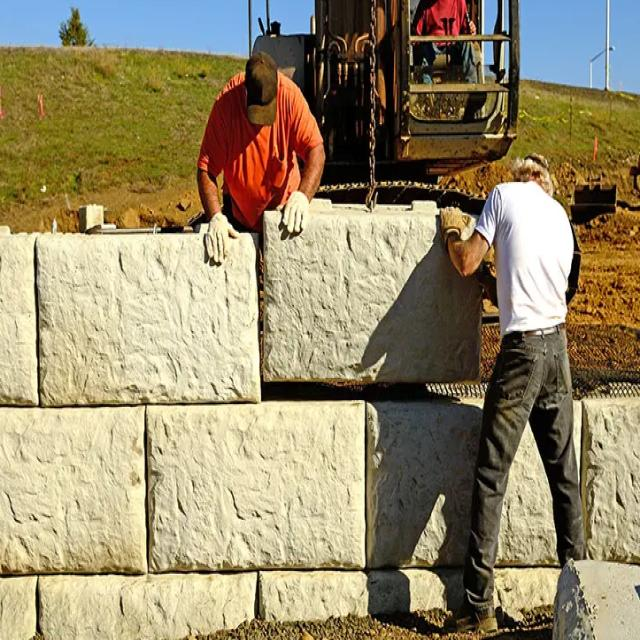Concrete: (0, 204, 452, 627)
